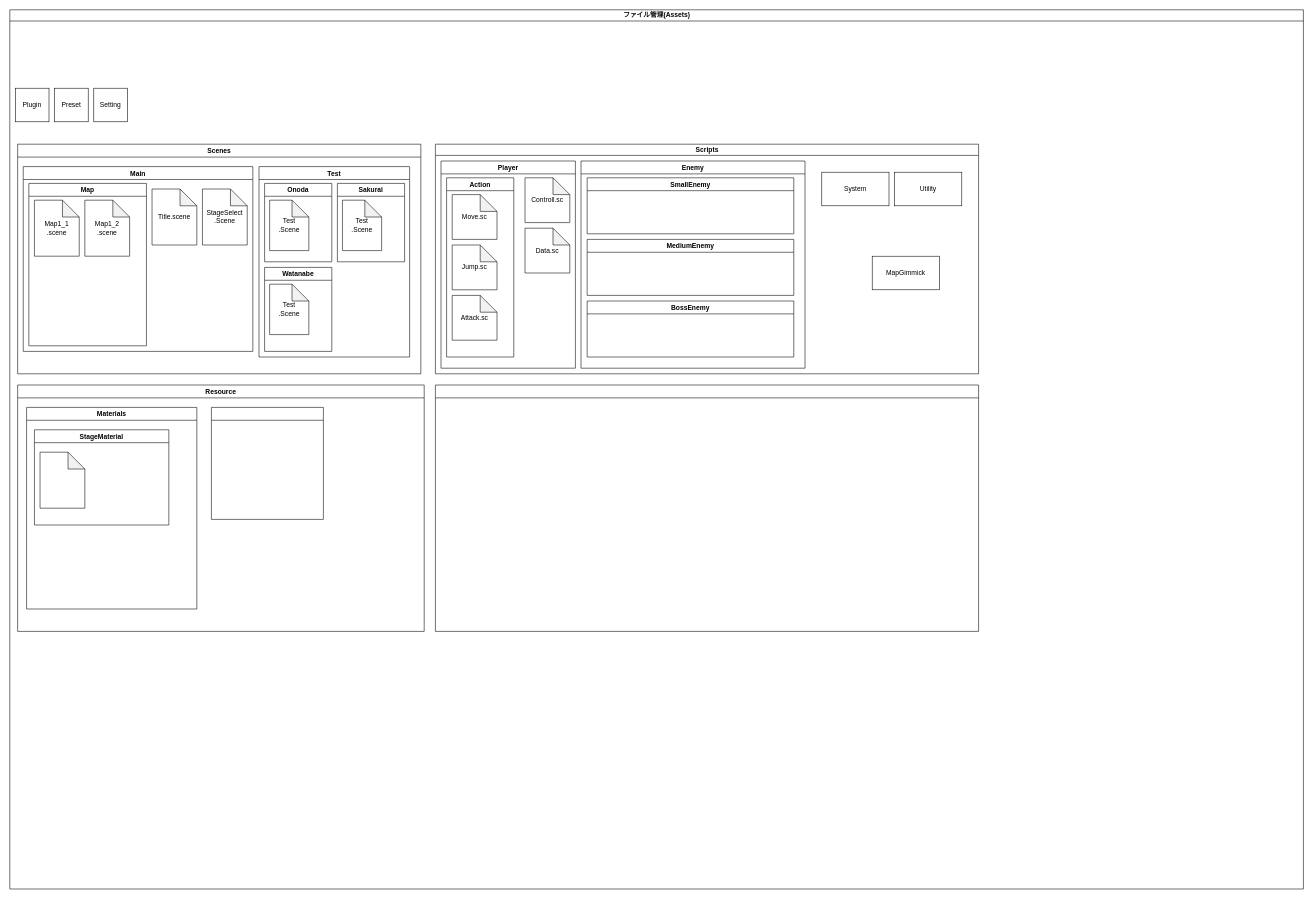
This 1313x899 diagram has some shape labels left out. Each missing label, with the centre of its shape:
"block1 .mat" goes at pixel 62 480.
"Prefabs" goes at pixel 707 507.
"Textures" goes at pixel 267 463.
